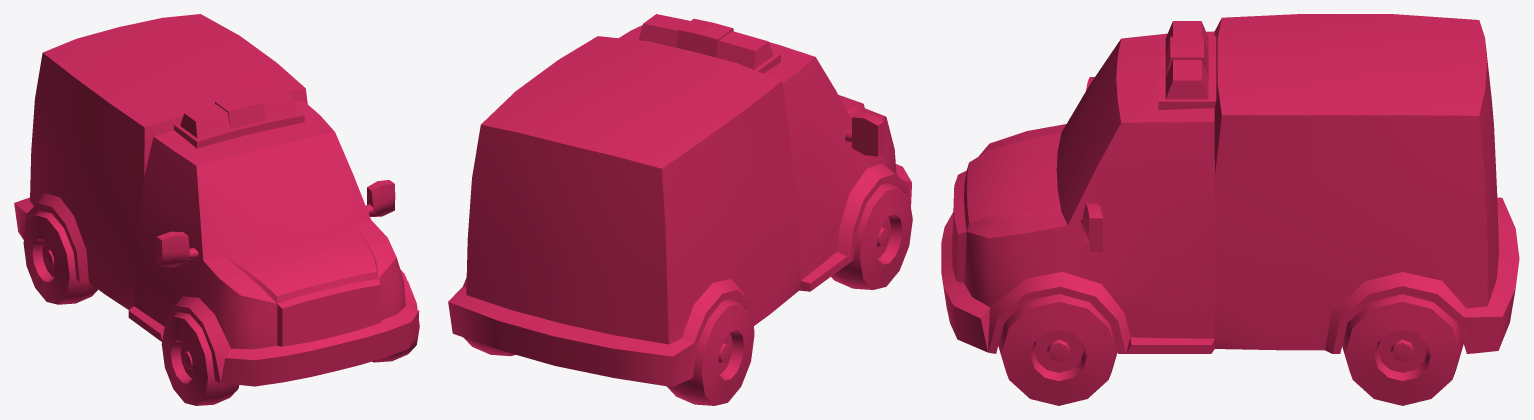
File: Vehicle_Land_Ambulance.fbx
3 renders of one model, left to right at view 1: azimuth 30°, elevation 25°; view 2: azimuth 150°, elevation 25°; view 3: azimuth 270°, elevation 25°, orthographic. The views are drawn at different scales.
Visible parts, largest first — view 1: Vehicle_Land_Ambulance; view 2: Vehicle_Land_Ambulance; view 3: Vehicle_Land_Ambulance.
Part boxes in pixels (<box>): Vehicle_Land_Ambulance: <box>14,14,419,405</box>; Vehicle_Land_Ambulance: <box>448,14,912,405</box>; Vehicle_Land_Ambulance: <box>941,14,1519,405</box>.
Bounding box in the file's own units: 55.62 × 54.8 × 96.15.
